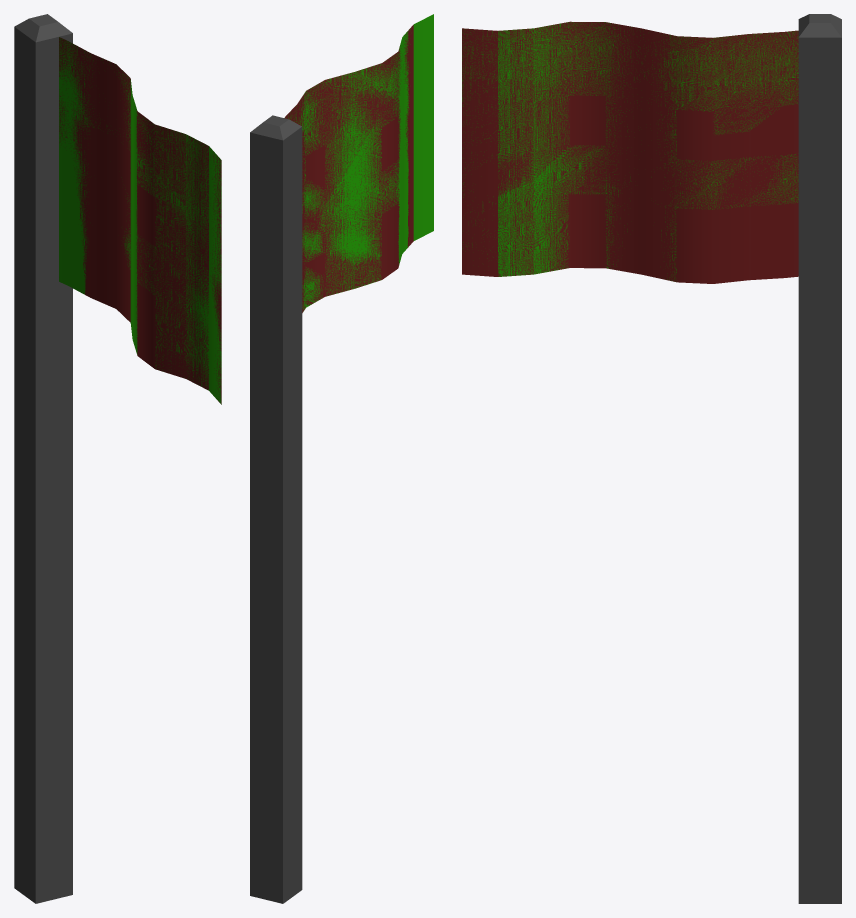
File: Flag.fbx
3 views of the same model, side by side, from view 1: azimuth 30°, elevation 25°; view 2: azimuth 150°, elevation 25°; view 3: azimuth 270°, elevation 25° (orthographic). The views are drawn at different scales.
Visible parts, largest first — view 1: FlagPole, Flag, Flag1; view 2: FlagPole, Flag1, Flag; view 3: Flag, FlagPole, Flag1.
Part boxes in pixels (x1,y1,x2,y2): FlagPole: (14, 14, 72, 903); Flag: (59, 37, 221, 404); Flag1: (59, 37, 221, 404); FlagPole: (250, 115, 302, 903); Flag1: (288, 14, 433, 311); Flag: (284, 25, 413, 312); Flag: (462, 21, 798, 283); FlagPole: (798, 14, 841, 903); Flag1: (462, 22, 798, 281).
Size of the model in its own units: 8.78 by 192 by 75.54.
